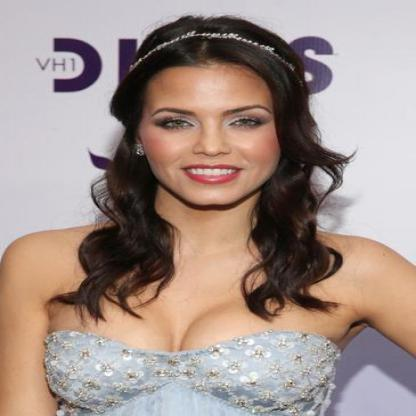long-hair: (80, 210, 336, 265)
